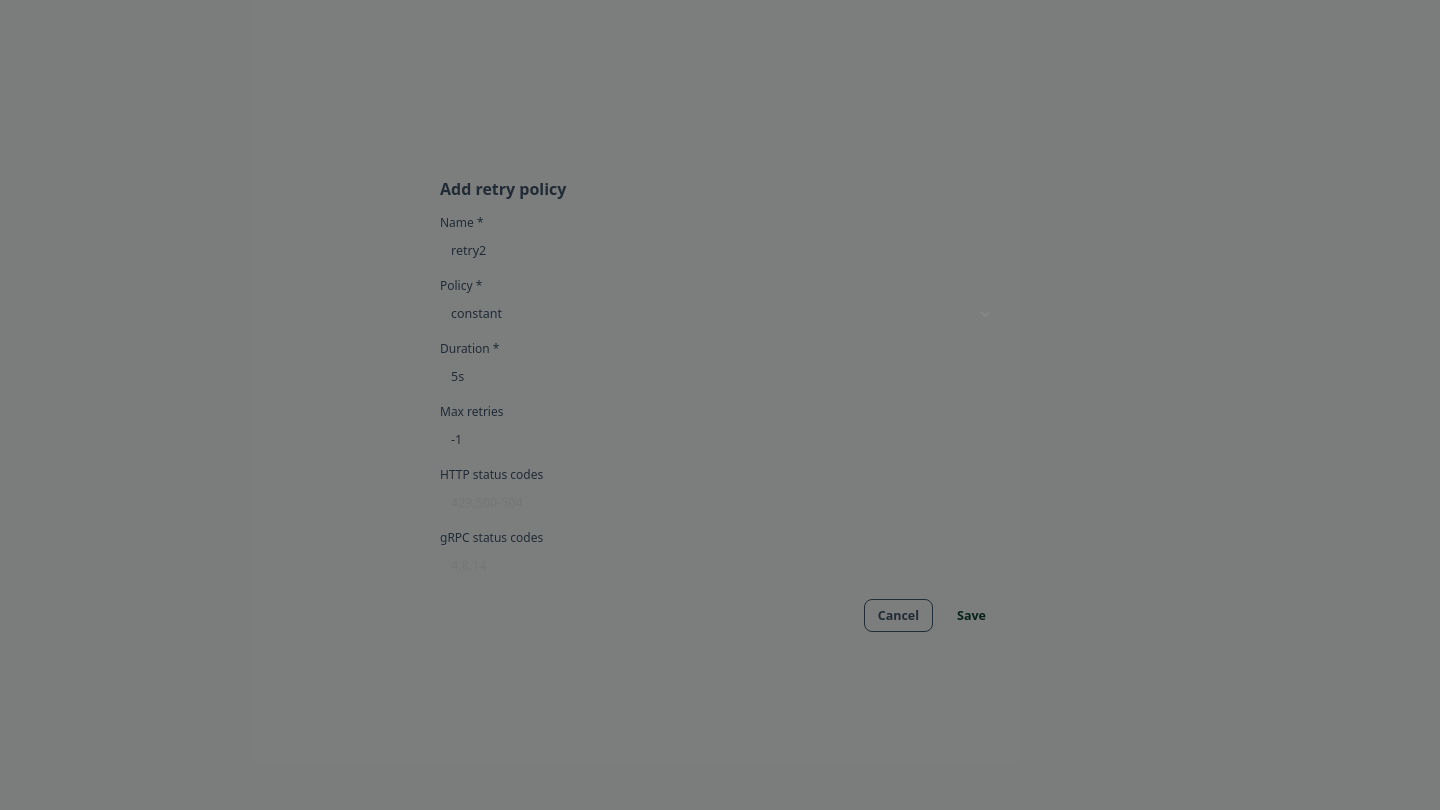
Test case: duplicate name guard › RetryDialog blocks saving a duplicate retry name
Replace the text in the field named "retry name" with "retry1" at (731, 250), box [440, 235, 1022, 266]
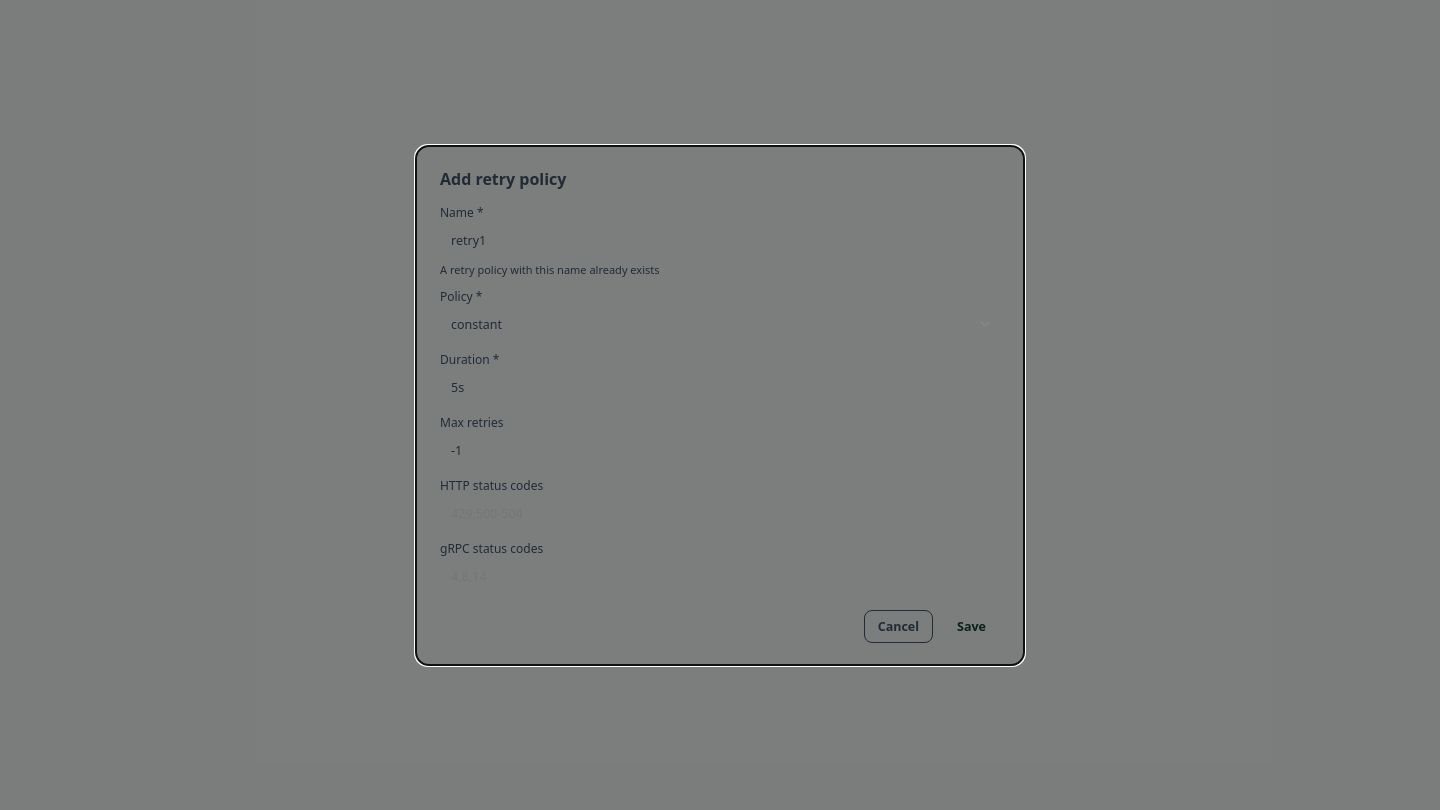
Expected: the text "A retry policy with this name already exists" is shown, [440, 262, 660, 276]
Expected: the button "Save" is disabled, [943, 610, 1000, 642]
